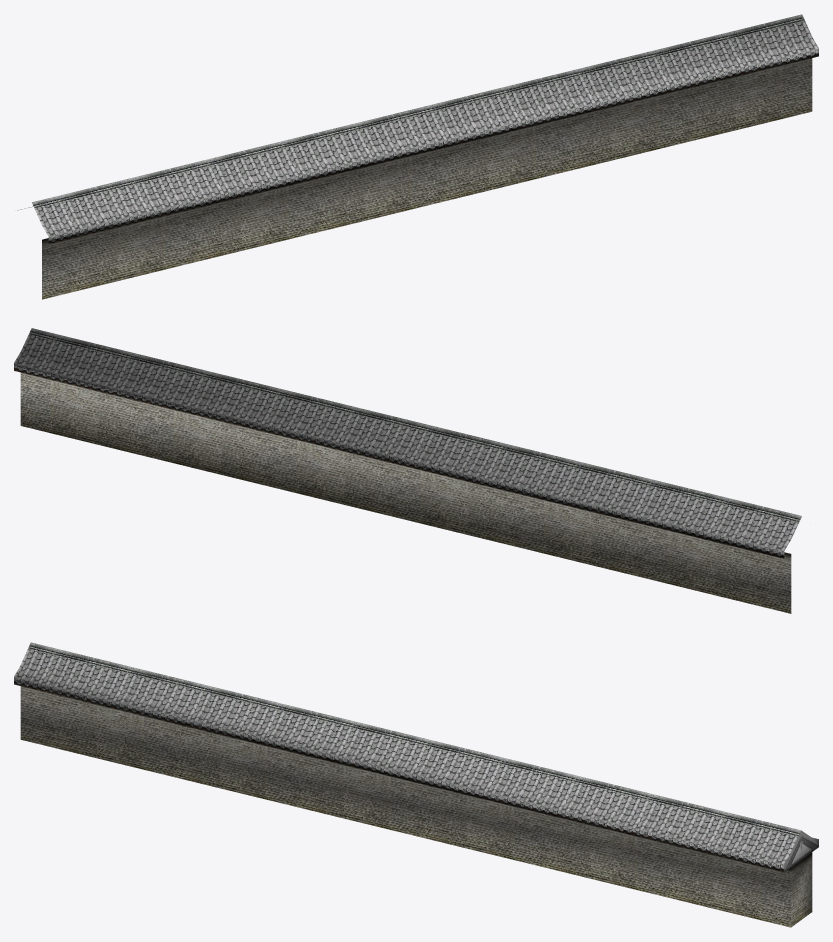
Rendered from cj_rich2_rightdam01_1.glb.
3 renders of one model, top to bottom at view 1: azimuth 30°, elevation 25°; view 2: azimuth 150°, elevation 25°; view 3: azimuth 330°, elevation 25°, orthographic.
Visible parts, largest first — view 1: CJ_rich2_rightdam01_1; view 2: CJ_rich2_rightdam01_1; view 3: CJ_rich2_rightdam01_1.
Boxes of the visible parts, bbox=[...] form: CJ_rich2_rightdam01_1: bbox=[17, 14, 818, 299]; CJ_rich2_rightdam01_1: bbox=[14, 328, 801, 613]; CJ_rich2_rightdam01_1: bbox=[14, 642, 818, 927].
Bounding box in the file's own units: 20.6 × 2.3 × 1.6.
1 material, 1 textured.
